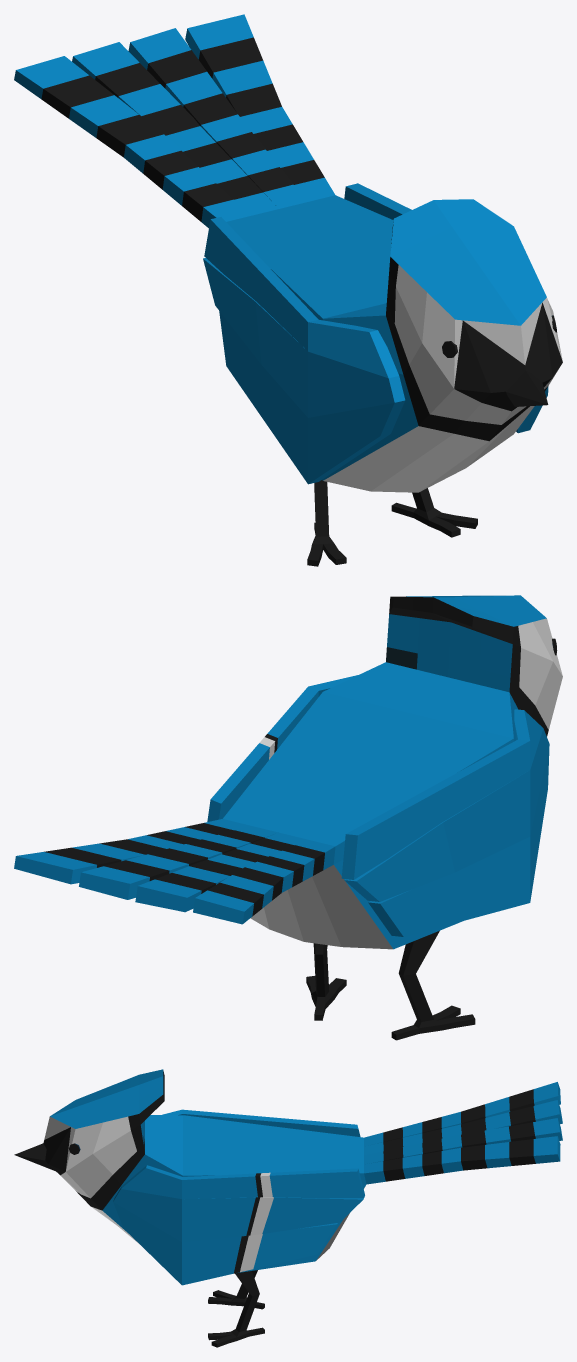
The model's file is Bird_01.fbx.
3 renders of one model, top to bottom at view 1: azimuth 30°, elevation 25°; view 2: azimuth 150°, elevation 25°; view 3: azimuth 270°, elevation 25°, orthographic. The views are drawn at different scales.
Visible parts, largest first — view 1: Bird_01; view 2: Bird_01; view 3: Bird_01.
Part boxes in pixels (bbox=[...]): Bird_01: bbox=[14, 14, 562, 566]; Bird_01: bbox=[14, 595, 562, 1040]; Bird_01: bbox=[14, 1069, 562, 1347].
Size of the model in its own units: 2.67 by 4.19 by 8.53.
